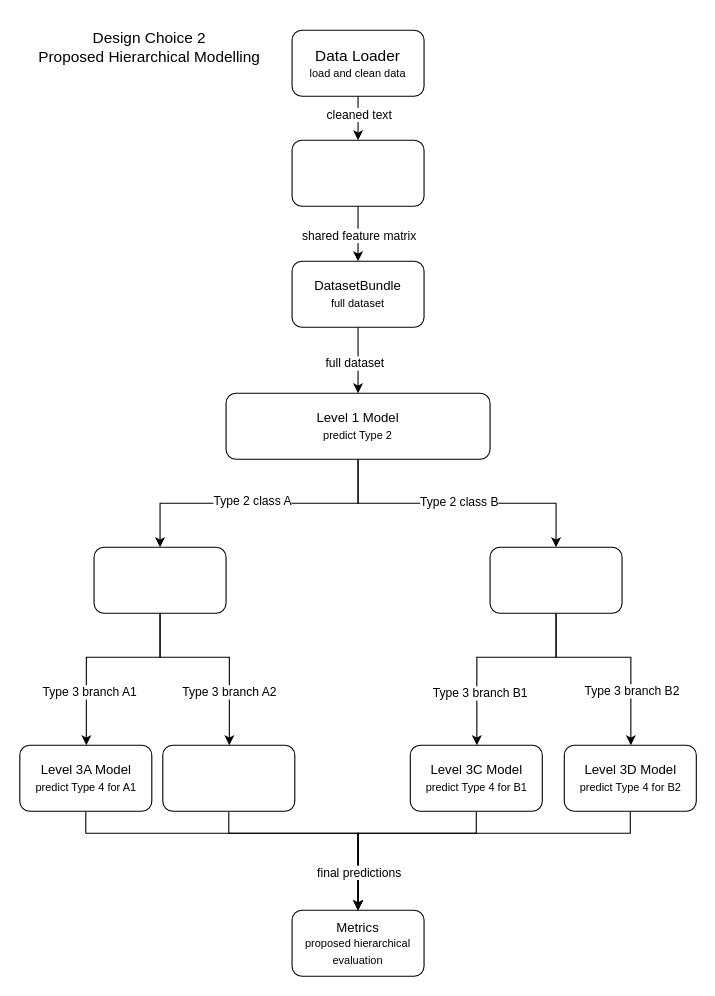
Some shapes in this 715 by 996 pixel diagram are drawn without their labels. Each missing label, with the box of its shape:
Level 2A Model predict Type 3 for class A: (93, 546, 226, 613)
Level 2B Model predict Type 3 for class B: (489, 546, 622, 613)
Level 3B Model predict Type 4 for A2: (162, 744, 295, 811)
Vectorizer shared TF-IDF features: (291, 139, 424, 206)
